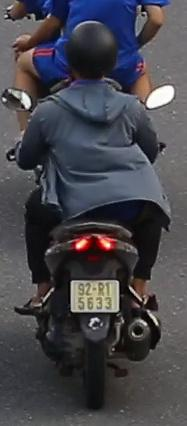LP: (68, 276, 122, 315)
helmet: (64, 20, 120, 94)
